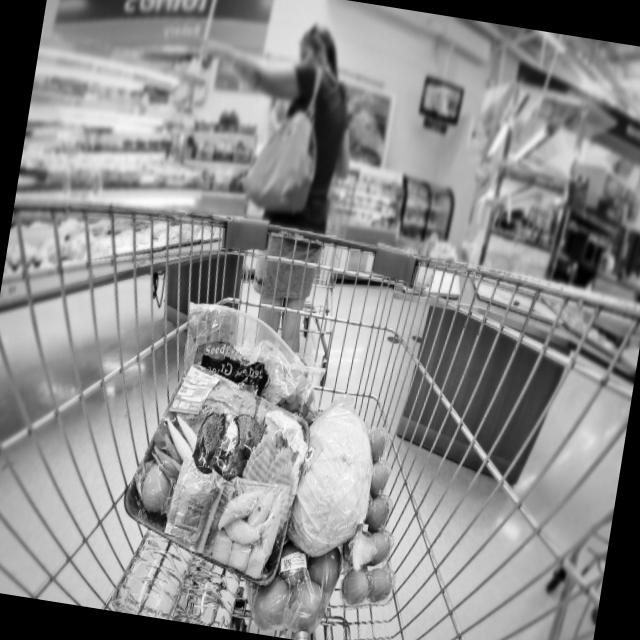bap cai: (280, 401, 378, 562)
nho: (172, 318, 272, 402)
tao: (237, 532, 350, 636)
trung: (336, 418, 420, 610)
